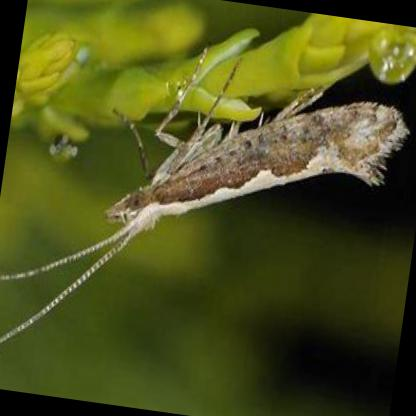plutella: (0, 38, 409, 356)
